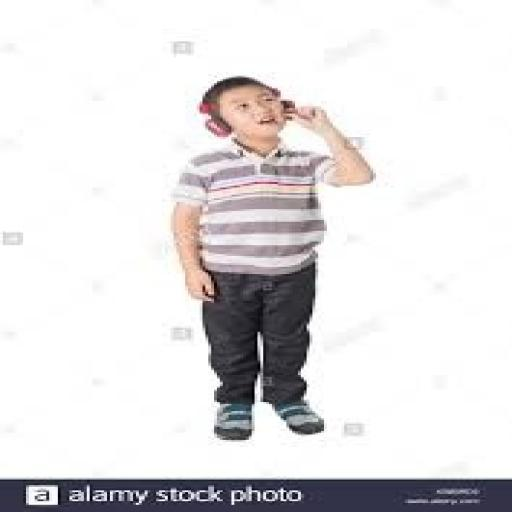listening_to_music: (165, 74, 379, 442)
